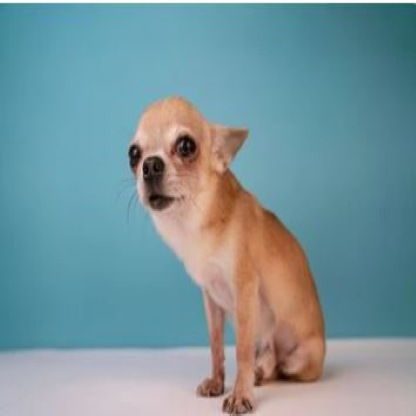chihuahua: (121, 93, 331, 416)
